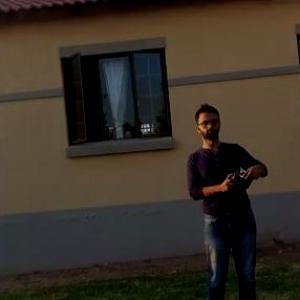follow: (186, 96, 277, 299)
null: (256, 221, 293, 258)
